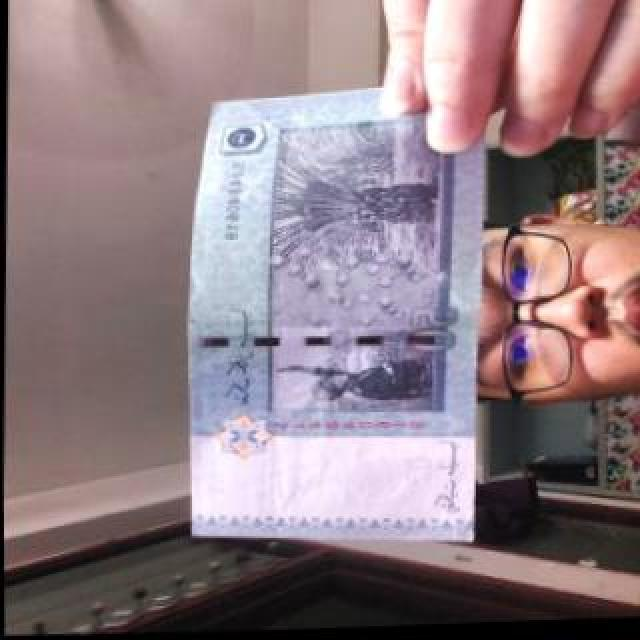50 Ringgit: (176, 64, 503, 559)
